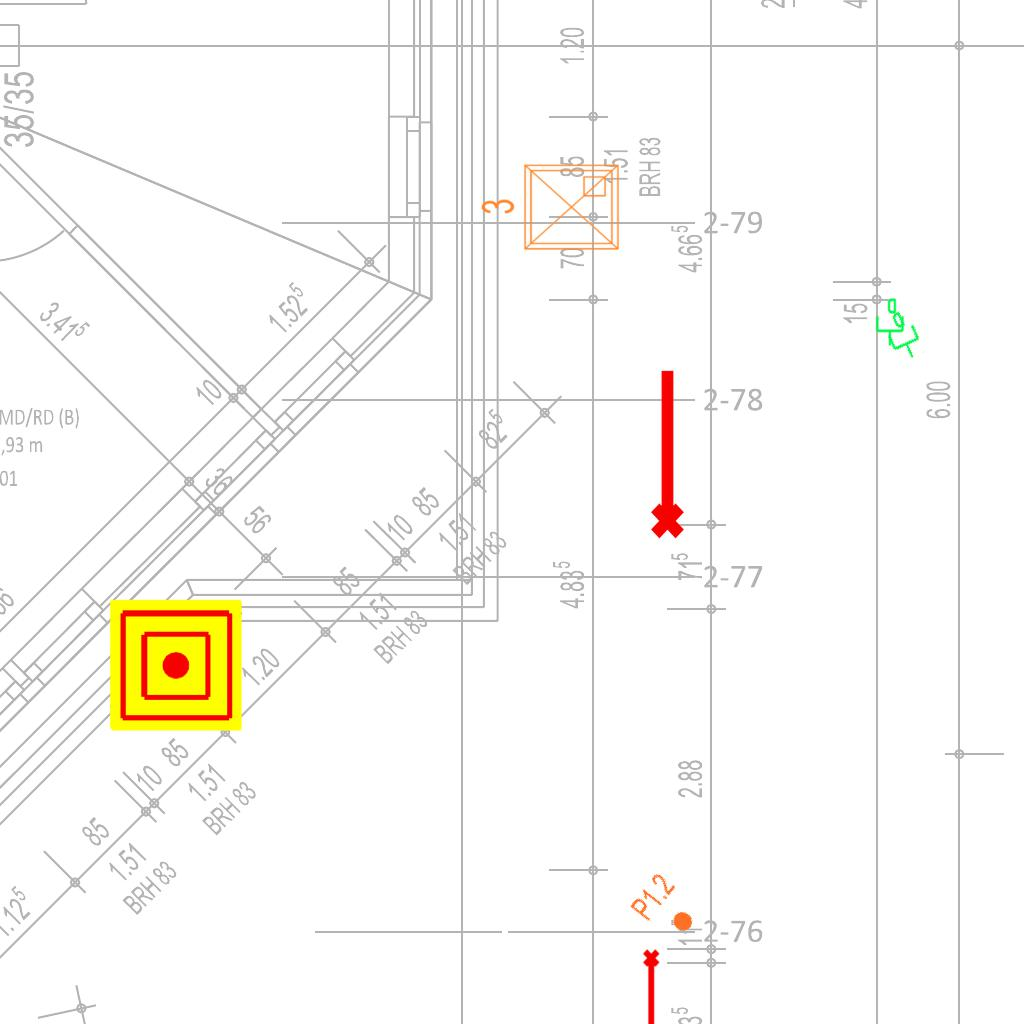ASR_Ansaugoeffnung: (642, 365, 688, 541), (641, 948, 664, 1024)
Datenanschluss_einfach: (876, 306, 928, 366), (872, 297, 906, 347)
Downlight_LED_Einbauleuchten_Flur: (627, 870, 707, 946)
Einbaudownlights_LED_Konferenzraeume: (476, 157, 626, 261)
NAM-Nichtautomatischer_Melder: (110, 599, 242, 731)
